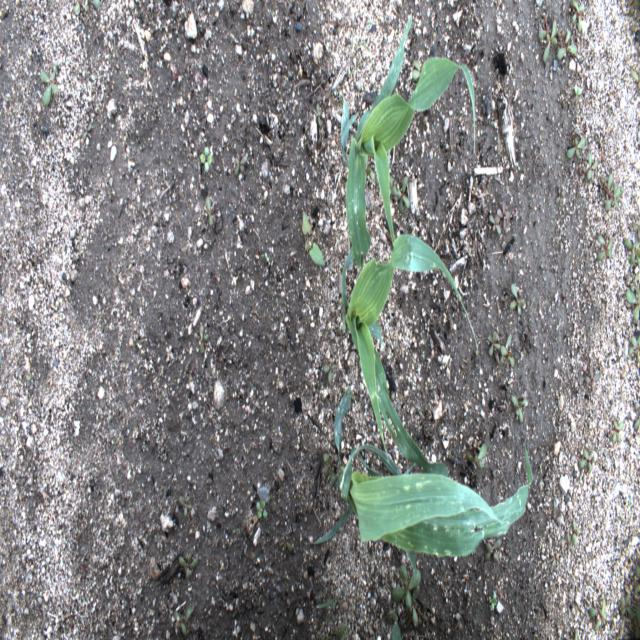crop: (340, 14, 476, 272), (341, 235, 478, 476), (315, 443, 533, 572)
weed: (394, 562, 423, 628), (333, 385, 352, 471), (302, 204, 328, 265), (599, 172, 628, 219), (534, 22, 560, 73), (487, 328, 519, 367), (37, 61, 60, 109), (555, 30, 584, 64), (488, 199, 512, 240), (507, 280, 529, 323), (170, 603, 197, 637), (585, 595, 608, 633), (394, 172, 413, 217), (614, 583, 636, 618), (190, 321, 212, 355), (318, 358, 341, 390), (510, 393, 535, 422), (564, 131, 588, 161), (584, 146, 602, 183), (584, 363, 604, 396), (178, 546, 195, 584), (71, 0, 106, 18), (308, 99, 326, 134), (484, 540, 504, 571), (198, 143, 215, 179), (381, 609, 402, 638), (576, 445, 596, 475), (621, 234, 638, 269), (232, 149, 249, 184), (596, 231, 614, 264), (625, 284, 638, 329), (320, 442, 333, 486), (326, 618, 352, 638), (571, 2, 587, 33), (177, 491, 196, 517), (610, 417, 624, 452), (568, 510, 579, 554), (471, 443, 490, 468), (488, 589, 503, 620), (205, 194, 219, 227), (254, 499, 268, 526), (628, 337, 638, 371), (79, 120, 92, 142), (629, 60, 638, 90), (278, 536, 293, 554), (573, 81, 585, 96), (631, 407, 637, 434)
